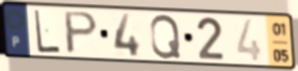2: (197, 15, 229, 62)
4: (111, 11, 144, 59), (235, 17, 264, 64)
L: (32, 8, 62, 55)
P: (63, 9, 101, 56)
Q: (148, 13, 183, 60)
